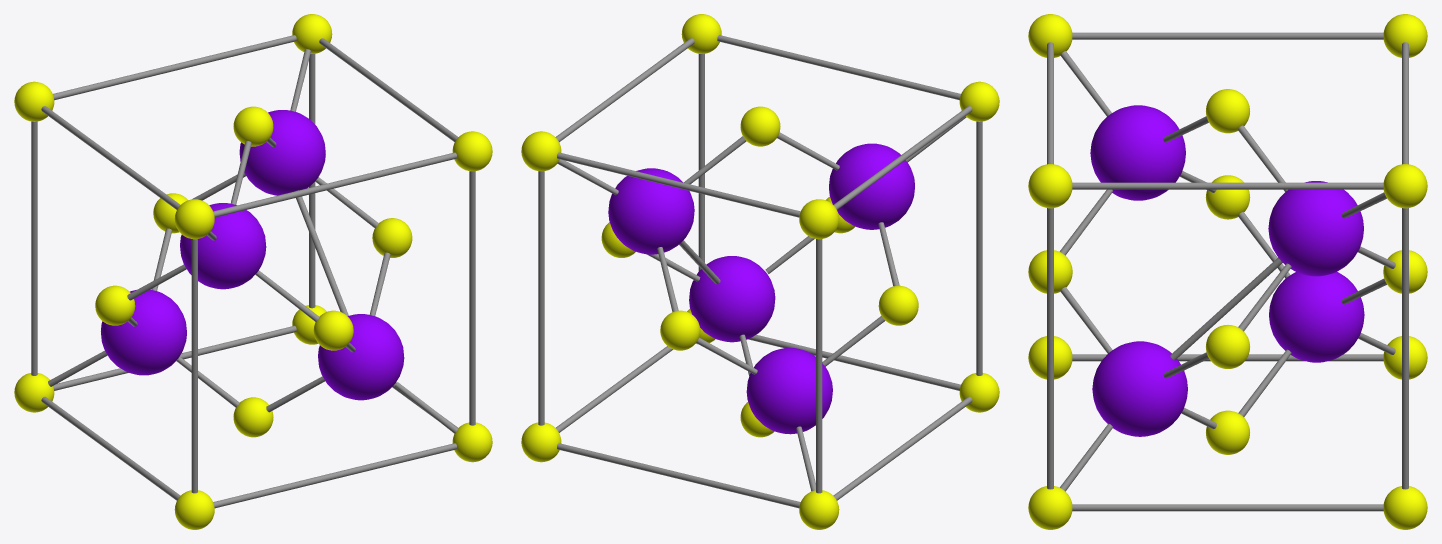
The model's file is lizi4-2.FBX.
3 renders of one model, left to right at view 1: azimuth 30°, elevation 25°; view 2: azimuth 150°, elevation 25°; view 3: azimuth 270°, elevation 25°, orthographic. The views are drawn at different scales.
Visible parts, largest first — view 1: zns_qiugun, Sphere005, Sphere006, Sphere003, Sphere004, Sphere012, Sphere016, Sphere013, Sphere007, Sphere020, Sphere017, Sphere019 (+8 smaller); view 2: zns_qiugun, Sphere005, Sphere003, Sphere006, Sphere004, Sphere020, Sphere019, Sphere011, Sphere015, Sphere014, Sphere010, Sphere009 (+5 smaller); view 3: zns_qiugun, Sphere005, Sphere006, Sphere003, Sphere004, Sphere014, Sphere013, Sphere018, Sphere020, Sphere009, Sphere008, Sphere017 (+9 smaller).
Part boxes in pixels (x1,y1,x2,y2): zns_qiugun: (31, 35, 475, 508); Sphere005: (318, 314, 404, 400); Sphere006: (101, 289, 186, 375); Sphere003: (239, 110, 325, 195); Sphere004: (180, 203, 266, 289); Sphere012: (174, 199, 214, 239); Sphere016: (313, 310, 353, 350); Sphere013: (452, 131, 492, 171); Sphere007: (174, 490, 214, 529); Sphere020: (233, 106, 273, 146); Sphere017: (233, 397, 273, 437); Sphere019: (95, 285, 135, 325); zns_qiugun: (538, 35, 982, 508); Sphere005: (689, 256, 775, 342); Sphere003: (608, 168, 694, 254); Sphere006: (746, 347, 832, 434); Sphere004: (829, 143, 914, 229); Sphere020: (740, 106, 780, 146); Sphere019: (878, 285, 918, 325); Sphere011: (799, 199, 839, 239); Sphere015: (660, 310, 700, 350); Sphere014: (521, 131, 561, 171); Sphere010: (799, 490, 839, 529); Sphere009: (521, 422, 561, 462); zns_qiugun: (1047, 32, 1408, 511); Sphere005: (1092, 341, 1187, 436); Sphere006: (1269, 272, 1364, 362); Sphere003: (1268, 181, 1363, 276); Sphere004: (1090, 105, 1185, 200); Sphere014: (1383, 164, 1427, 208); Sphere013: (1028, 164, 1072, 208); Sphere018: (1206, 325, 1249, 368); Sphere020: (1206, 89, 1249, 133); Sphere009: (1383, 486, 1427, 529); Sphere008: (1028, 486, 1072, 529); Sphere017: (1206, 410, 1249, 454).
Size of the model in its own units: 32.7 by 32.7 by 32.7.
